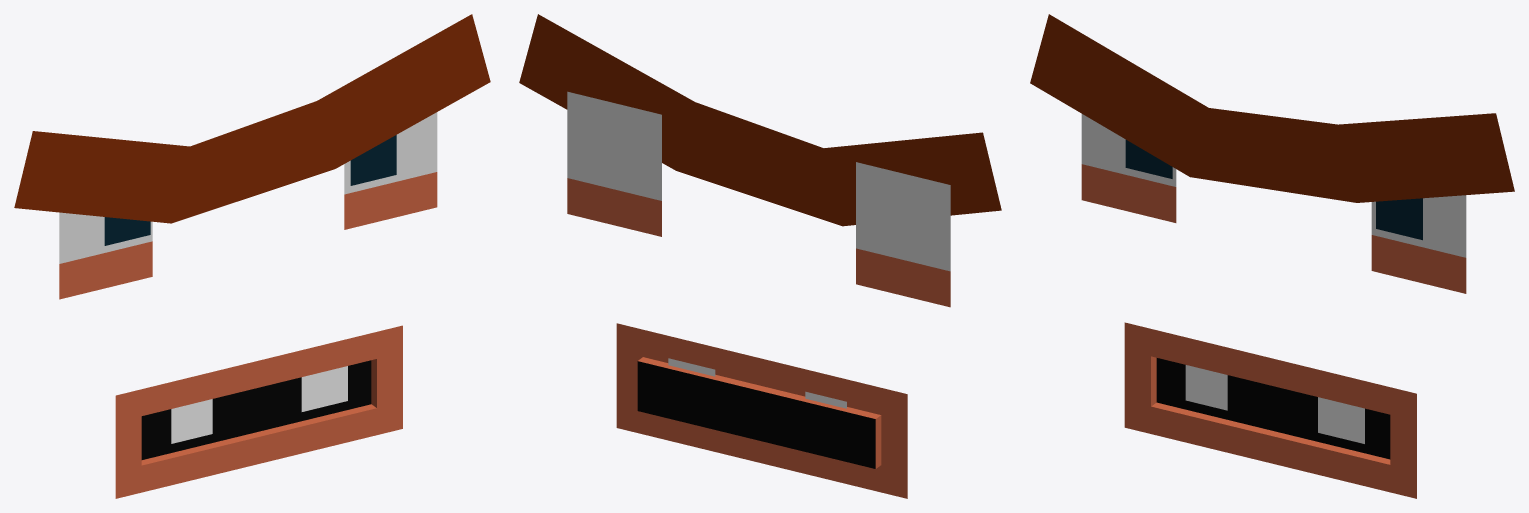
The model's file is Face Male 08.FBX.
3 renders of one model, left to right at view 1: azimuth 30°, elevation 25°; view 2: azimuth 150°, elevation 25°; view 3: azimuth 330°, elevation 25°, orthographic.
Parts seen in each view (by area): view 1: Face Male 08; view 2: Face Male 08; view 3: Face Male 08.
Boxes of the visible parts, bbox=[...] form: Face Male 08: bbox=[14, 14, 490, 498]; Face Male 08: bbox=[519, 14, 1001, 498]; Face Male 08: bbox=[1030, 14, 1514, 498].
Size of the model in its own units: 39.28 by 31.03 by 1.01.
1 material, 1 textured.
